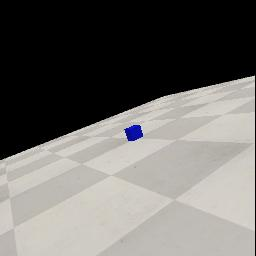box: (124, 125, 143, 141)
